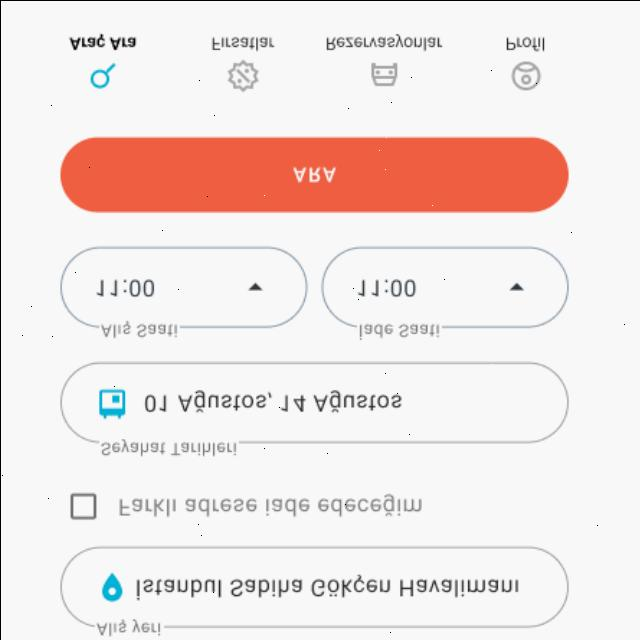QLabel: (115, 491, 422, 517), (322, 31, 446, 51), (64, 32, 140, 52), (205, 32, 277, 52), (288, 162, 336, 184), (498, 34, 548, 51)
VBottomNavigation: (45, 0, 595, 106)
VBtn: (59, 136, 568, 212)
VCheckbox: (66, 491, 98, 522)
VCombobox: (320, 244, 570, 340), (59, 244, 308, 340)
VIcon: (222, 56, 262, 92), (80, 59, 122, 89), (507, 60, 545, 90), (367, 59, 403, 90)
VTextField: (60, 361, 570, 457), (59, 544, 568, 636)
